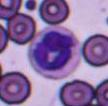N: (28, 25, 81, 80)
